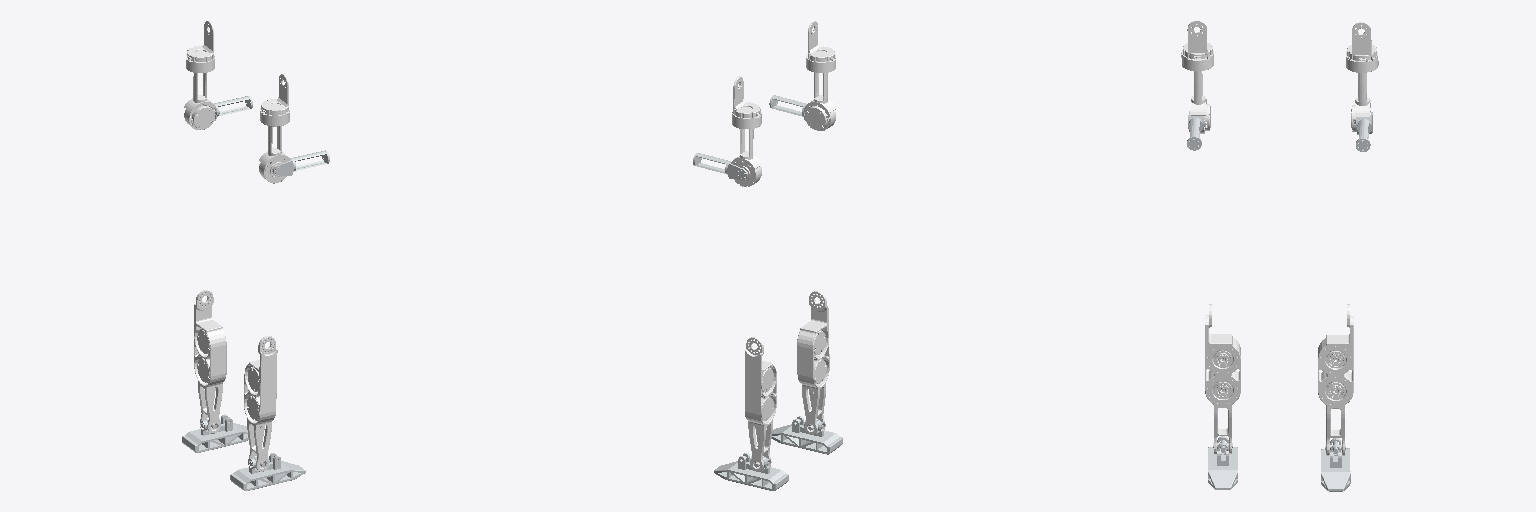
--- Facts derived from the render (not from the file) ---
The picture shows the robot from 3 angles, left to right: view 1: azimuth 30°, elevation 25°; view 2: azimuth 150°, elevation 25°; view 3: azimuth 270°, elevation 25°; orthographic projection.
Robot: zrobot — 23 links, 22 joints (21 revolute, 1 floating); root link world; default pose: all joints at 0.
Links seen in each view (by area): view 1: L_knee_link, R_knee_link, R_foot_roll_link, L_foot_roll_link, L_arm_yaw_link, R_shoulder_roll_link, L_shoulder_roll_link, R_arm_yaw_link, R_elbow_pitch_link; view 2: R_knee_link, L_knee_link, L_foot_roll_link, R_foot_roll_link, R_arm_yaw_link, L_shoulder_roll_link, R_shoulder_roll_link, L_arm_yaw_link, L_elbow_pitch_link; view 3: L_knee_link, R_knee_link, R_foot_roll_link, L_foot_roll_link, L_shoulder_roll_link, R_shoulder_roll_link, R_arm_yaw_link, L_arm_yaw_link.
Boxes of the visible links, x1,y1,x2,y2 form: L_knee_link: [194, 290, 226, 433]; R_knee_link: [244, 336, 277, 471]; R_foot_roll_link: [230, 453, 305, 490]; L_foot_roll_link: [182, 414, 248, 452]; L_arm_yaw_link: [184, 73, 215, 129]; R_shoulder_roll_link: [260, 74, 289, 126]; L_shoulder_roll_link: [186, 21, 214, 72]; R_arm_yaw_link: [259, 126, 290, 183]; R_elbow_pitch_link: [273, 150, 329, 176]; R_knee_link: [797, 291, 829, 434]; L_knee_link: [745, 337, 776, 471]; L_foot_roll_link: [714, 453, 788, 490]; R_foot_roll_link: [772, 416, 842, 454]; R_arm_yaw_link: [805, 73, 836, 130]; L_shoulder_roll_link: [732, 76, 761, 128]; R_shoulder_roll_link: [806, 21, 835, 72]; L_arm_yaw_link: [731, 129, 761, 186]; L_elbow_pitch_link: [693, 153, 747, 179]; L_knee_link: [1318, 304, 1353, 455]; R_knee_link: [1205, 304, 1240, 453]; R_foot_roll_link: [1208, 436, 1237, 489]; L_foot_roll_link: [1321, 438, 1350, 491]; L_shoulder_roll_link: [1346, 22, 1378, 72]; R_shoulder_roll_link: [1181, 21, 1213, 70]; R_arm_yaw_link: [1190, 71, 1210, 133]; L_arm_yaw_link: [1351, 73, 1370, 134].
Size in the robot's own frame: 0.2343 by 0.472 by 1.2 metres.
12 mesh visuals loaded from 22 distinct referenced files (12 binary STL); not drawn: 10 (reference not matched to a file when rendering).

robot.urdf — zrobot:
<?xml version="1.0" encoding="utf-8"?>
<!-- This URDF was automatically created by SolidWorks to URDF Exporter! Originally created by Stephen Brawner ([email redacted]) 
     Commit Version: 1.6.0-4-g7f85cfe  Build Version: 1.6.7995.38578
     For more information, please see http://wiki.ros.org/sw_urdf_exporter -->
<robot
  name="zrobot">

  <mujoco>
    <compiler
    meshdir=""
    balanceinertia="true"
    discardvisual="false" />
  </mujoco>

  <link name="world"></link>
  <joint name="floating_base_joint" type="floating">
    <parent link='world' />
    <child link='base_link' />
  </joint>

  <link
    name="base_link">
    <inertial>
      <origin
        xyz="-0.053122 -0.000376 0.016153"
        rpy="0 0 0" />
      <mass
        value="3.826" />
      <inertia
        ixx="0.041164"
        ixy="-7.2E-05"
        ixz="0.001859"
        iyy="0.012512"
        iyz="-1.2E-05"
        izz="0.048942" />
    </inertial>
    <visual>
      <origin
        xyz="0 0 0"
        rpy="0 0 0" />
      <geometry>
        <mesh
          filename="../meshes/base_link.STL" />
      </geometry>
      <material
        name="">
        <color
          rgba="1 1 1 1" />
      </material>
    </visual>
    <!-- <collision>
      <origin
        xyz="0 0 0"
        rpy="0 0 0" />
      <geometry>
        <mesh
          filename="../meshes/base_link.STL" />
      </geometry>
    </collision> -->
    <collision>
      <origin
        xyz="-0.02 0 0.22"
        rpy="0 0 0" />
      <geometry>
        <box
          size="0.195 0.36 0.557" />
      </geometry>
    </collision>
  </link>
  <link
    name="L_hip_roll_link">
    <inertial>
      <origin
        xyz="0.0623 -4.8E-05 0.000293"
        rpy="0 0 0" />
      <mass
        value="1.0503" />
      <inertia
        ixx="0.001102"
        ixy="-1E-06"
        ixz="3E-06"
        iyy="0.001173"
        iyz="-1E-06"
        izz="0.001594" />
    </inertial>
    <visual>
      <origin
        xyz="0 0 0"
        rpy="0 0 0" />
      <geometry>
        <mesh
          filename="../meshes/L_hip_roll_link.STL" />
      </geometry>
      <material
        name="">
        <color
          rgba="1 1 1 1" />
      </material>
    </visual>
    <!-- <collision>
      <origin
        xyz="0 0 0"
        rpy="0 0 0" />
      <geometry>
        <mesh
          filename="../meshes/L_hip_roll_link.STL" />
      </geometry>
    </collision> -->
  </link>
  <joint
    name="L_hip_roll_joint"
    type="revolute">
    <origin
      xyz="-0.0715000000000026 0.135 0.00620000000000087"
      rpy="0 0 0" />
    <parent
      link="base_link" />
    <child
      link="L_hip_roll_link" />
    <axis
      xyz="1 0 0" />
    <limit
      lower="-0.4"
      upper="1.5"
      effort="1000"
      velocity="1000" />
  </joint>
  <link
    name="L_hip_yaw_link">
    <inertial>
      <origin
        xyz="0.000862 -0.001216 -0.064584"
        rpy="0 0 0" />
      <mass
        value="1.584" />
      <inertia
        ixx="0.002256"
        ixy="-1E-06"
        ixz="-1.9E-05"
        iyy="0.003465"
        iyz="8E-06"
        izz="0.002117" />
    </inertial>
    <visual>
      <origin
        xyz="0 0 0"
        rpy="0 0 0" />
      <geometry>
        <mesh
          filename="../meshes/L_hip_yaw_link.STL" />
      </geometry>
      <material
        name="">
        <color
          rgba="1 1 1 1" />
      </material>
    </visual>
    <!-- <collision>
      <origin
        xyz="0 0 0"
        rpy="0 0 0" />
      <geometry>
        <mesh
          filename="../meshes/L_hip_yaw_link.STL" />
      </geometry>
    </collision> -->
  </link>
  <joint
    name="L_hip_yaw_joint"
    type="revolute">
    <origin
      xyz="0.0650000000000002 0 -0.0219999999999869"
      rpy="0 0 0" />
    <parent
      link="L_hip_roll_link" />
    <child
      link="L_hip_yaw_link" />
    <axis
      xyz="0 0 1" />
    <limit
      lower="-1.0"
      upper="1.0"
      effort="1000"
      velocity="1000" />
  </joint>
  <link
    name="L_hip_pitch_link">
    <inertial>
      <origin
        xyz="0.000869 -0.013032 -0.26185"
        rpy="0 0 0" />
      <mass
        value="2.0026" />
      <inertia
        ixx="0.014864"
        ixy="2E-06"
        ixz="-5.3E-05"
        iyy="0.016027"
        iyz="0.000684"
        izz="0.002431" />
    </inertial>
    <visual>
      <origin
        xyz="0 0 0"
        rpy="0 0 0" />
      <geometry>
        <mesh
          filename="../meshes/L_hip_pitch_link.STL" />
      </geometry>
      <material
        name="">
        <color
          rgba="1 1 1 1" />
      </material>
    </visual>
    <!-- <collision>
      <origin
        xyz="0 0 0"
        rpy="0 0 0" />
      <geometry>
        <mesh
          filename="../meshes/L_hip_pitch_link.STL" />
      </geometry>
    </collision> -->
  </link>
  <joint
    name="L_hip_pitch_joint"
    type="revolute">
    <origin
      xyz="-3.49322273089925E-05 0.0204999702375277 -0.0670000000000057"
      rpy="0 0 0" />
    <parent
      link="L_hip_yaw_link" />
    <child
      link="L_hip_pitch_link" />
    <axis
      xyz="-0.00170401108835407 0.999998548172051 0" />
    <limit
      lower="-1.8"
      upper="1.3"
      effort="1000"
      velocity="1000" />
  </joint>
  <link
    name="L_knee_link">
    <inertial>
      <origin
        xyz="0.001783 -0.022897 -0.16039"
        rpy="0 0 0" />
      <mass
        value="1.4819" />
      <inertia
        ixx="0.009583"
        ixy="-1.1E-05"
        ixz="3E-05"
        iyy="0.008986"
        iyz="0.00051"
        izz="0.001248" />
    </inertial>
    <visual>
      <origin
        xyz="0 0 0"
        rpy="0 0 0" />
      <geometry>
        <mesh
          filename="../meshes/L_knee_link.STL" />
      </geometry>
      <material
        name="">
        <color
          rgba="1 1 1 1" />
      </material>
    </visual>
    <!-- <collision>
      <origin
        xyz="0 0 0"
        rpy="0 0 0" />
      <geometry>
        <mesh
          filename="../meshes/L_knee_link.STL" />
      </geometry>
    </collision> -->
  </link>
  <joint
    name="L_knee_joint"
    type="revolute">
    <origin
      xyz="0.000313115318114399 0.00500054081190004 -0.299999827583929"
      rpy="0 0 0" />
    <parent
      link="L_hip_pitch_link" />
    <child
      link="L_knee_link" />
    <axis
      xyz="0.0017040110883775 -0.999998548172051 0" />
    <limit
      lower="-1.9"
      upper="0"
      effort="1000"
      velocity="1000" />
  </joint>
  <link
    name="L_foot_pitch_link">
    <inertial>
      <origin
        xyz="4.2612E-05 -0.025 -1.9761E-11"
        rpy="0 0 0" />
      <mass
        value="0.027426" />
      <inertia
        ixx="3.5409E-06"
        ixy="6.6562E-15"
        ixz="5.1684E-09"
        iyy="3.5408E-06"
        iyz="3.9167E-12"
        izz="6.5768E-06" />
    </inertial>
    <visual>
      <origin
        xyz="0 0 0"
        rpy="0 0 0" />
      <geometry>
        <mesh
          filename="../meshes/L_foot_pitch_link.STL" />
      </geometry>
      <material
        name="">
        <color
          rgba="0.89804 0.91765 0.92941 1" />
      </material>
    </visual>
    <!-- <collision>
      <origin
        xyz="0 0 0"
        rpy="0 0 0" />
      <geometry>
        <mesh
          filename="../meshes/L_foot_pitch_link.STL" />
      </geometry>
    </collision> -->
  </link>
  <joint
    name="L_foot_pitch_joint"
    type="revolute">
    <origin
      xyz="0 -0.000500000153495384 -0.34999999999962"
      rpy="0 0 0" />
    <parent
      link="L_knee_link" />
    <child
      link="L_foot_pitch_link" />
    <axis
      xyz="0.00170401108836505 -0.999998548172051 0" />
    <limit
      lower="-0.4"
      upper="0.55"
      effort="1000"
      velocity="1000" />
  </joint>
  <link
    name="L_foot_roll_link">
    <inertial>
      <origin
        xyz="0.051071 8.7311E-05 -0.041358"
        rpy="0 0 0" />
      <mass
        value="0.66962" />
      <inertia
        ixx="0.00037577"
        ixy="3E-06"
        ixz="-1.7E-05"
        iyy="0.0019054"
        iyz="2.32E-08"
        izz="0.0020007" />
    </inertial>
    <visual>
      <origin
        xyz="0 0 0"
        rpy="0 0 0" />
      <geometry>
        <mesh
          filename="../meshes/L_foot_roll_link.STL" />
      </geometry>
      <material
        name="">
        <color
          rgba="0.89804 0.91765 0.92941 1" />
      </material>
    </visual>
    <collision>
      <origin
        xyz="0 0 0"
        rpy="0 0 0" />
      <geometry>
        <mesh
          filename="../meshes/L_foot_roll_link.STL" />
      </geometry>
    </collision>
  </link>
  <joint
    name="L_foot_roll_joint"
    type="revolute">
    <origin
      xyz="-0.0249573271314456 -0.0250425639196625 4.26002772095924E-05"
      rpy="0 0 0" />
    <parent
      link="L_foot_pitch_link" />
    <child
      link="L_foot_roll_link" />
    <axis
      xyz="0.999997096346211 0.00170400861446901 -0.0017040110883815" />
    <limit
      lower="-0.8"
      upper="0.8"
      effort="1000"
      velocity="1000" />
  </joint>
  <link
    name="R_hip_roll_link">
    <inertial>
      <origin
        xyz="0.0623 -4.8E-05 0.000293"
        rpy="0 0 0" />
      <mass
        value="1.0503" />
      <inertia
        ixx="0.001102"
        ixy="-1E-06"
        ixz="3E-06"
        iyy="0.001173"
        iyz="-1E-06"
        izz="0.001594" />
    </inertial>
    <visual>
      <origin
        xyz="0 0 0"
        rpy="0 0 0" />
      <geometry>
        <mesh
          filename="../meshes/R_hip_roll_link.STL" />
      </geometry>
      <material
        name="">
        <color
          rgba="1 1 1 1" />
      </material>
    </visual>
    <!-- <collision>
      <origin
        xyz="0 0 0"
        rpy="0 0 0" />
      <geometry>
        <mesh
          filename="../meshes/R_hip_roll_link.STL" />
      </geometry>
    </collision> -->
  </link>
  <joint
    name="R_hip_roll_joint"
    type="revolute">
    <origin
      xyz="-0.0715000000000037 -0.134999999999997 0.00619999999999687"
      rpy="0 0 0" />
    <parent
      link="base_link" />
    <child
      link="R_hip_roll_link" />
    <axis
      xyz="1 0 0" />
    <limit
      lower="-1.5"
      upper="0.4"
      effort="1000"
      velocity="1000" />
  </joint>
  <link
    name="R_hip_yaw_link">
    <inertial>
      <origin
        xyz="-0.000862 0.001216 -0.064584"
        rpy="0 0 0" />
      <mass
        value="1.584" />
      <inertia
        ixx="0.002256"
        ixy="-1E-06"
        ixz="1.9E-05"
        iyy="0.003465"
        iyz="-8E-06"
        izz="0.002117" />
    </inertial>
    <visual>
      <origin
        xyz="0 0 0"
        rpy="0 0 0" />
      <geometry>
        <mesh
          filename="../meshes/R_hip_yaw_link.STL" />
      </geometry>
      <material
        name="">
        <color
          rgba="1 1 1 1" />
      </material>
    </visual>
    <!-- <collision>
      <origin
        xyz="0 0 0"
        rpy="0 0 0" />
      <geometry>
        <mesh
          filename="../meshes/R_hip_yaw_link.STL" />
      </geometry>
    </collision> -->
  </link>
  <joint
    name="R_hip_yaw_joint"
    type="revolute">
    <origin
      xyz="0.0650000000000006 0 -0.0219999999999896"
      rpy="0 0 0" />
    <parent
      link="R_hip_roll_link" />
    <child
      link="R_hip_yaw_link" />
    <axis
      xyz="0 0 1" />
    <limit
      lower="-1.0"
      upper="1.0"
      effort="1000"
      velocity="1000" />
  </joint>
  <link
    name="R_hip_pitch_link">
    <inertial>
      <origin
        xyz="-0.000869 0.013032 -0.26185"
        rpy="0 0 0" />
      <mass
        value="2.0026" />
      <inertia
        ixx="0.014864"
        ixy="2E-06"
        ixz="5.3E-05"
        iyy="0.016027"
        iyz="-0.000684"
        izz="0.002431" />
    </inertial>
    <visual>
      <origin
        xyz="0 0 0"
        rpy="0 0 0" />
      <geometry>
        <mesh
          filename="../meshes/R_hip_pitch_link.STL" />
      </geometry>
      <material
        name="">
        <color
          rgba="1 1 1 1" />
      </material>
    </visual>
    <!-- <collision>
      <origin
        xyz="0 0 0"
        rpy="0 0 0" />
      <geometry>
        <mesh
          filename="../meshes/R_hip_pitch_link.STL" />
      </geometry>
    </collision> -->
  </link>
  <joint
    name="R_hip_pitch_joint"
    type="revolute">
    <origin
      xyz="3.49322273081043E-05 -0.0204999702375275 -0.0670000000000071"
      rpy="0 0 0" />
    <parent
      link="R_hip_yaw_link" />
    <child
      link="R_hip_pitch_link" />
    <axis
      xyz="0.0017040110883879 -0.999998548172051 0" />
    <limit
      lower="-1.3"
      upper="1.8"
      effort="1000"
      velocity="1000" />
  </joint>
  <link
    name="R_knee_link">
    <inertial>
      <origin
        xyz="-0.001997 0.023105 -0.16074"
        rpy="0 0 0" />
      <mass
        value="1.4819" />
      <inertia
        ixx="0.009567"
        ixy="-6E-06"
        ixz="0.000227"
        iyy="0.008973"
        iyz="-0.000507"
        izz="0.001256" />
    </inertial>
    <visual>
      <origin
        xyz="0 0 0"
        rpy="0 0 0" />
      <geometry>
        <mesh
          filename="../meshes/R_knee_link.STL" />
      </geometry>
      <material
        name="">
        <color
          rgba="1 1 1 1" />
      </material>
    </visual>
    <!-- <collision>
      <origin
        xyz="0 0 0"
        rpy="0 0 0" />
      <geometry>
        <mesh
          filename="../meshes/R_knee_link.STL" />
      </geometry>
    </collision> -->
  </link>
  <joint
    name="R_knee_joint"
    type="revolute">
    <origin
      xyz="-0.000313115318115953 -0.00500054081189905 -0.299999827583928"
      rpy="0 0 0" />
    <parent
      link="R_hip_pitch_link" />
    <child
      link="R_knee_link" />
    <axis
      xyz="-0.00170401108838362 0.999998548172051 0" />
    <limit
      lower="0"
      upper="1.9"
      effort="1000"
      velocity="1000" />
  </joint>
  <link
    name="R_foot_pitch_link">
    <inertial>
      <origin
        xyz="-4.2589E-05 0.025 -1.9761E-11"
        rpy="0 0 0" />
      <mass
        value="0.027426" />
      <inertia
        ixx="3.5409E-06"
        ixy="6.6562E-15"
        ixz="5.1684E-09"
        iyy="3.5408E-06"
        iyz="3.9167E-12"
        izz="6.5768E-06" />
    </inertial>
    <visual>
      <origin
        xyz="0 0 0"
        rpy="0 0 0" />
      <geometry>
        <mesh
          filename="../meshes/R_foot_pitch_link.STL" />
      </geometry>
      <material
        name="">
        <color
          rgba="0.89804 0.91765 0.92941 1" />
      </material>
    </visual>
    <!-- <collision>
      <origin
        xyz="0 0 0"
        rpy="0 0 0" />
      <geometry>
        <mesh
          filename="../meshes/R_foot_pitch_link.STL" />
      </geometry>
    </collision> -->
  </link>
  <joint
    name="R_foot_pitch_joint"
    type="revolute">
    <origin
      xyz="-0.00806100070657201 0.00048626467137769 -0.349907178855019"
      rpy="0 0 0" />
    <parent
      link="R_knee_link" />
    <child
      link="R_foot_pitch_link" />
    <axis
      xyz="-0.00170401108838948 0.999998548172051 0" />
    <limit
      lower="-0.55"
      upper="0.4"
      effort="1000"
      velocity="1000" />
  </joint>
  <link
    name="R_foot_roll_link">
    <inertial>
      <origin
        xyz="0.051071 8.7311E-05 -0.041358"
        rpy="0 0 0" />
      <mass
        value="0.66962" />
      <inertia
        ixx="0.00037577"
        ixy="3E-06"
        ixz="-1.7E-05"
        iyy="0.0019054"
        iyz="2.32E-08"
        izz="0.0020007" />
    </inertial>
    <visual>
      <origin
        xyz="0 0 0"
        rpy="0 0 0" />
      <geometry>
        <mesh
          filename="../meshes/R_foot_roll_link.STL" />
      </geometry>
      <material
        name="">
        <color
          rgba="0.89804 0.91765 0.92941 1" />
      </material>
    </visual>
    <collision>
      <origin
        xyz="0 0 0"
        rpy="0 0 0" />
      <geometry>
        <mesh
          filename="../meshes/R_foot_roll_link.STL" />
      </geometry>
    </collision>
  </link>
  <joint
    name="R_foot_roll_joint"
    type="revolute">
    <origin
      xyz="-0.0250425276858648 0.02495736348894 4.26002772095924E-05"
      rpy="0 0 0" />
    <parent
      link="R_foot_pitch_link" />
    <child
      link="R_foot_roll_link" />
    <axis
      xyz="0.999997096346211 0.00170400861445591 -0.0017040110883815" />
    <limit
      lower="-0.8"
      upper="0.8"
      effort="1000"
      velocity="1000" />
  </joint>
  <link
    name="chest_head_link">
    <inertial>
      <origin
        xyz="0.003148 0.000299 0.2816"
        rpy="0 0 0" />
      <mass
        value="8.5057" />
      <inertia
        ixx="0.15508"
        ixy="2.5E-05"
        ixz="0.003149"
        iyy="0.11141"
        iyz="0.000355"
        izz="0.060787" />
    </inertial>
    <visual>
      <origin
        xyz="0 0 0"
        rpy="0 0 0" />
      <geometry>
        <mesh
          filename="../meshes/chest_head_link.STL" />
      </geometry>
      <material
        name="">
        <color
          rgba="1 1 1 1" />
      </material>
    </visual>
    <!-- <collision>
      <origin
        xyz="0 0 0"
        rpy="0 0 0" />
      <geometry>
        <mesh
          filename="../meshes/chest_head_link.STL" />
      </geometry>
    </collision> -->
  </link>
  <joint
    name="chest_head_joint"
    type="revolute">
    <origin
      xyz="0 0 0.0527000000000102"
      rpy="0 0 0" />
    <parent
      link="base_link" />
    <child
      link="chest_head_link" />
    <axis
      xyz="0 0 1" />
  </joint>
  <link
    name="L_shoulder_pitch_link">
    <inertial>
      <origin
        xyz="-0.000499 0.063856 -0.002446"
        rpy="0 0 0" />
      <mass
        value="1.0024" />
      <inertia
        ixx="0.001494"
        ixy="-4E-06"
        ixz="4E-06"
        iyy="0.00099"
        iyz="2.2E-05"
        izz="0.001134" />
    </inertial>
    <visual>
      <origin
        xyz="0 0 0"
        rpy="0 0 0" />
      <geometry>
        <mesh
          filename="../meshes/L_shoulder_pitch_link.STL" />
      </geometry>
      <material
        name="">
        <color
          rgba="1 1 1 1" />
      </material>
    </visual>
    <!-- <collision>
      <origin
        xyz="0 0 0"
        rpy="0 0 0" />
      <geometry>
        <mesh
          filename="../meshes/L_shoulder_pitch_link.STL" />
      </geometry>
    </collision> -->
  </link>
  <joint
    name="L_shoulder_pitch_joint"
    type="revolute">
    <origin
      xyz="0 0.127499999999997 0.330000000000002"
      rpy="0 0 0" />
    <parent
      link="chest_head_link" />
    <child
      link="L_shoulder_pitch_link" />
    <axis
      xyz="0 1 0" />
  </joint>
  <link
    name="L_shoulder_roll_link">
    <inertial>
      <origin
        xyz="-0.017808 0.001558 -0.076904"
        rpy="0 0 0" />
      <mass
        value="0.46926" />
      <inertia
        ixx="0.000473"
        ixy="-1E-06"
        ixz="5.9E-05"
        iyy="0.000498"
        iyz="-1E-06"
        izz="0.000427" />
    </inertial>
    <visual>
      <origin
        xyz="0 0 0"
        rpy="0 0 0" />
      <geometry>
        <mesh
          filename="../meshes/L_shoulder_roll_link.STL" />
      </geometry>
      <material
        name="">
        <color
          rgba="1 1 1 1" />
      </material>
    </visual>
    <!-- <collision>
      <origin
        xyz="0 0 0"
        rpy="0 0 0" />
      <geometry>
        <mesh
          filename="../meshes/L_shoulder_roll_link.STL" />
      </geometry>
    </collision> -->
  </link>
  <joint
    name="L_shoulder_roll_joint"
    type="revolute">
    <origin
      xyz="0.0209980227067856 0.0689999999999997 -0.00211967978838579"
      rpy="0 0 0" />
    <parent
      link="L_shoulder_pitch_link" />
    <child
      link="L_shoulder_roll_link" />
    <axis
      xyz="-0.999999560849825 0 0.000937176695177002" />
  </joint>
  <link
    name="L_arm_yaw_link">
    <inertial>
      <origin
        xyz="-0.00112 -0.001525 -0.1198"
        rpy="0 0 0" />
      <mass
        value="0.49726" />
      <inertia
        ixx="0.000772"
        ixy="-6E-06"
        ixz="1E-05"
        iyy="0.000899"
        iyz="1.7E-05"
        izz="0.000312" />
    </inertial>
    <visual>
      <origin
        xyz="0 0 0"
        rpy="0 0 0" />
      <geometry>
        <mesh
          filename="../meshes/L_arm_yaw_link.STL" />
      </geometry>
      <material
        name="">
        <color
          rgba="1 1 1 1" />
      </material>
    </visual>
    <!-- <collision>
      <origin
        xyz="0 0 0"
        rpy="0 0 0" />
      <geometry>
        <mesh
          filename="../meshes/L_arm_yaw_link.STL" />
      </geometry>
    </collision> -->
  </link>
  <joint
    name="L_arm_yaw_joint"
    type="revolute">
    <origin
      xyz="-0.0211021299960445 0.00174168132372676 -0.108966355614004"
      rpy="0 0 0" />
    <parent
      link="L_shoulder_roll_link" />
    <child
      link="L_arm_yaw_link" />
    <axis
      xyz="-0.000937057047695522 0.0159787277406135 -0.999871892886224" />
  </joint>
  <link
    name="L_elbow_pitch_link">
    <inertial>
      <origin
        xyz="0.069668 -0.012372 -0.00026295"
        rpy="0 0 0" />
      <mass
        value="0.11269" />
      <inertia
        ixx="2.9039E-05"
        ixy="-2.9E-05"
        ixz="-1E-06"
        iyy="0.00025916"
        iyz="4.8439E-08"
        izz="0.00025445" />
    </inertial>
    <visual>
      <origin
        xyz="0 0 0"
        rpy="0 0 0" />
      <geometry>
        <mesh
          filename="../meshes/L_elbow_pitch_link.STL" />
      </geometry>
      <material
        name="">
        <color
          rgba="0.89804 0.91765 0.92941 1" />
      </material>
    </visual>
    <!-- <collision>
      <origin
        xyz="0 0 0"
        rpy="0 0 0" />
      <geometry>
        <mesh
          filename="../meshes/L_elbow_pitch_link.STL" />
      </geometry>
    </collision> -->
  </link>
  <joint
    name="L_elbow_pitch_joint"
    type="revolute">
    <origin
      xyz="0.000566901553395782 0.02062583537445 -0.133688083005685"
      rpy="0 0 0" />
    <parent
      link="L_arm_yaw_link" />
    <child
      link="L_elbow_pitch_link" />
    <axis
      xyz="-0.0374306593390553 -0.999172208497632 -0.0159324670848291" />
  </joint>
  <link
    name="R_shoulder_pitch_link">
    <inertial>
      <origin
        xyz="-0.000499 -0.063856 0.002446"
        rpy="0 0 0" />
      <mass
        value="1.0024" />
      <inertia
        ixx="0.001494"
        ixy="4E-06"
        ixz="-4E-06"
        iyy="0.00099"
        iyz="2.2E-05"
        izz="0.001134" />
    </inertial>
    <visual>
      <origin
        xyz="0 0 0"
        rpy="0 0 0" />
      <geometry>
        <mesh
          filename="../meshes/R_shoulder_pitch_link.STL" />
      </geometry>
      <material
        name="">
        <color
          rgba="1 1 1 1" />
      </material>
    </visual>
    <!-- <collision>
      <origin
        xyz="0 0 0"
        rpy="0 0 0" />
      <geometry>
        <mesh
          filename="../meshes/R_shoulder_pitch_link.STL" />
      </geometry>
    </collision> -->
  </link>
  <joint
    name="R_shoulder_pitch_joint"
    type="revolute">
    <origin
      xyz="0 -0.127500000000003 0.330000000000001"
      rpy="0 0 0" />
    <parent
      link="chest_head_link" />
    <child
      link="R_shoulder_pitch_link" />
    <axis
      xyz="0 -1 0" />
  </joint>
  <link
    name="R_shoulder_roll_link">
    <inertial>
      <origin
        xyz="-0.017664 0.001558 -0.076937"
        rpy="0 0 0" />
      <mass
        value="0.46926" />
      <inertia
        ixx="0.000474"
        ixy="-1E-06"
        ixz="5.9E-05"
        iyy="0.000498"
        iyz="-1E-06"
        izz="0.000427" />
    </inertial>
    <visual>
      <origin
        xyz="0 0 0"
        rpy="0 0 0" />
      <geometry>
        <mesh
          filename="../meshes/R_shoulder_roll_link.STL" />
      </geometry>
      <material
        name="">
        <color
          rgba="1 1 1 1" />
      </material>
    </visual>
    <!-- <collision>
      <origin
        xyz="0 0 0"
        rpy="0 0 0" />
      <geometry>
        <mesh
          filename="../meshes/R_shoulder_roll_link.STL" />
      </geometry>
    </collision> -->
  </link>
  <joint
    name="R_shoulder_roll_joint"
    type="revolute">
    <origin
      xyz="0.020998022706787 -0.0689999999999992 0.00211967978838579"
      rpy="0 0 0" />
    <parent
      link="R_shoulder_pitch_link" />
    <child
      link="R_shoulder_roll_link" />
    <axis
      xyz="-0.999999560849825 0 -0.00093717669522402" />
  </joint>
  <link
    name="R_arm_yaw_link">
    <inertial>
      <origin
        xyz="0.00112 0.005352 -0.11969"
        rpy="0 0 0" />
      <mass
        value="0.49726" />
      <inertia
        ixx="0.000772"
        ixy="-5E-06"
        ixz="-1.1E-05"
        iyy="0.000897"
        iyz="-3.6E-05"
        izz="0.000313" />
    </inertial>
    <visual>
      <origin
        xyz="0 0 0"
        rpy="0 0 0" />
      <geometry>
        <mesh
          filename="../meshes/R_arm_yaw_link.STL" />
      </geometry>
      <material
        name="">
        <color
          rgba="1 1 1 1" />
      </material>
    </visual>
    <!-- <collision>
      <origin
        xyz="0 0 0"
        rpy="0 0 0" />
      <geometry>
        <mesh
          filename="../meshes/R_arm_yaw_link.STL" />
      </geometry>
    </collision> -->
  </link>
  <joint
    name="R_arm_yaw_joint"
    type="revolute">
    <origin
      xyz="-0.0208978515596245 0.00174167974717687 -0.109005717060395"
      rpy="0 0 0" />
    <parent
      link="R_shoulder_roll_link" />
    <child
      link="R_arm_yaw_link" />
    <axis
      xyz="0.000937057047908586 0.0159787132768956 -0.999871893117365" />
  </joint>
  <link
    name="R_elbow_pitch_link">
    <inertial>
      <origin
        xyz="0.070399 0.0071286 0.00017984"
        rpy="0 0 0" />
      <mass
        value="0.11269" />
      <inertia
        ixx="2.6034E-05"
        ixy="1.1E-05"
        ixz="-3.9445E-07"
        iyy="0.00026216"
        iyz="1.1282E-07"
        izz="0.00025445" />
    </inertial>
    <visual>
      <origin
        xyz="0 0 0"
        rpy="0 0 0" />
      <geometry>
        <mesh
          filename="../meshes/R_elbow_pitch_link.STL" />
      </geometry>
      <material
        name="">
        <color
          rgba="0.89804 0.91765 0.92941 1" />
      </material>
    </visual>
    <!-- <collision>
      <origin
        xyz="0 0 0"
        rpy="0 0 0" />
      <geometry>
        <mesh
          filename="../meshes/R_elbow_pitch_link.STL" />
      </geometry>
    </collision> -->
  </link>
  <joint
    name="R_elbow_pitch_joint"
    type="revolute">
    <origin
      xyz="-0.000566347943474543 -0.0163435382796495 -0.13427888146134"
      rpy="0 0 0" />
    <parent
      link="R_arm_yaw_link" />
    <child
      link="R_elbow_pitch_link" />
    <axis
      xyz="0.0374007344799697 0.999172208581159 0.0160025828979922" />
  </joint>
</robot>
